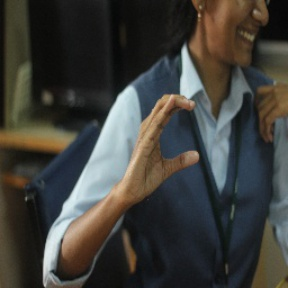C: (134, 86, 207, 183)
